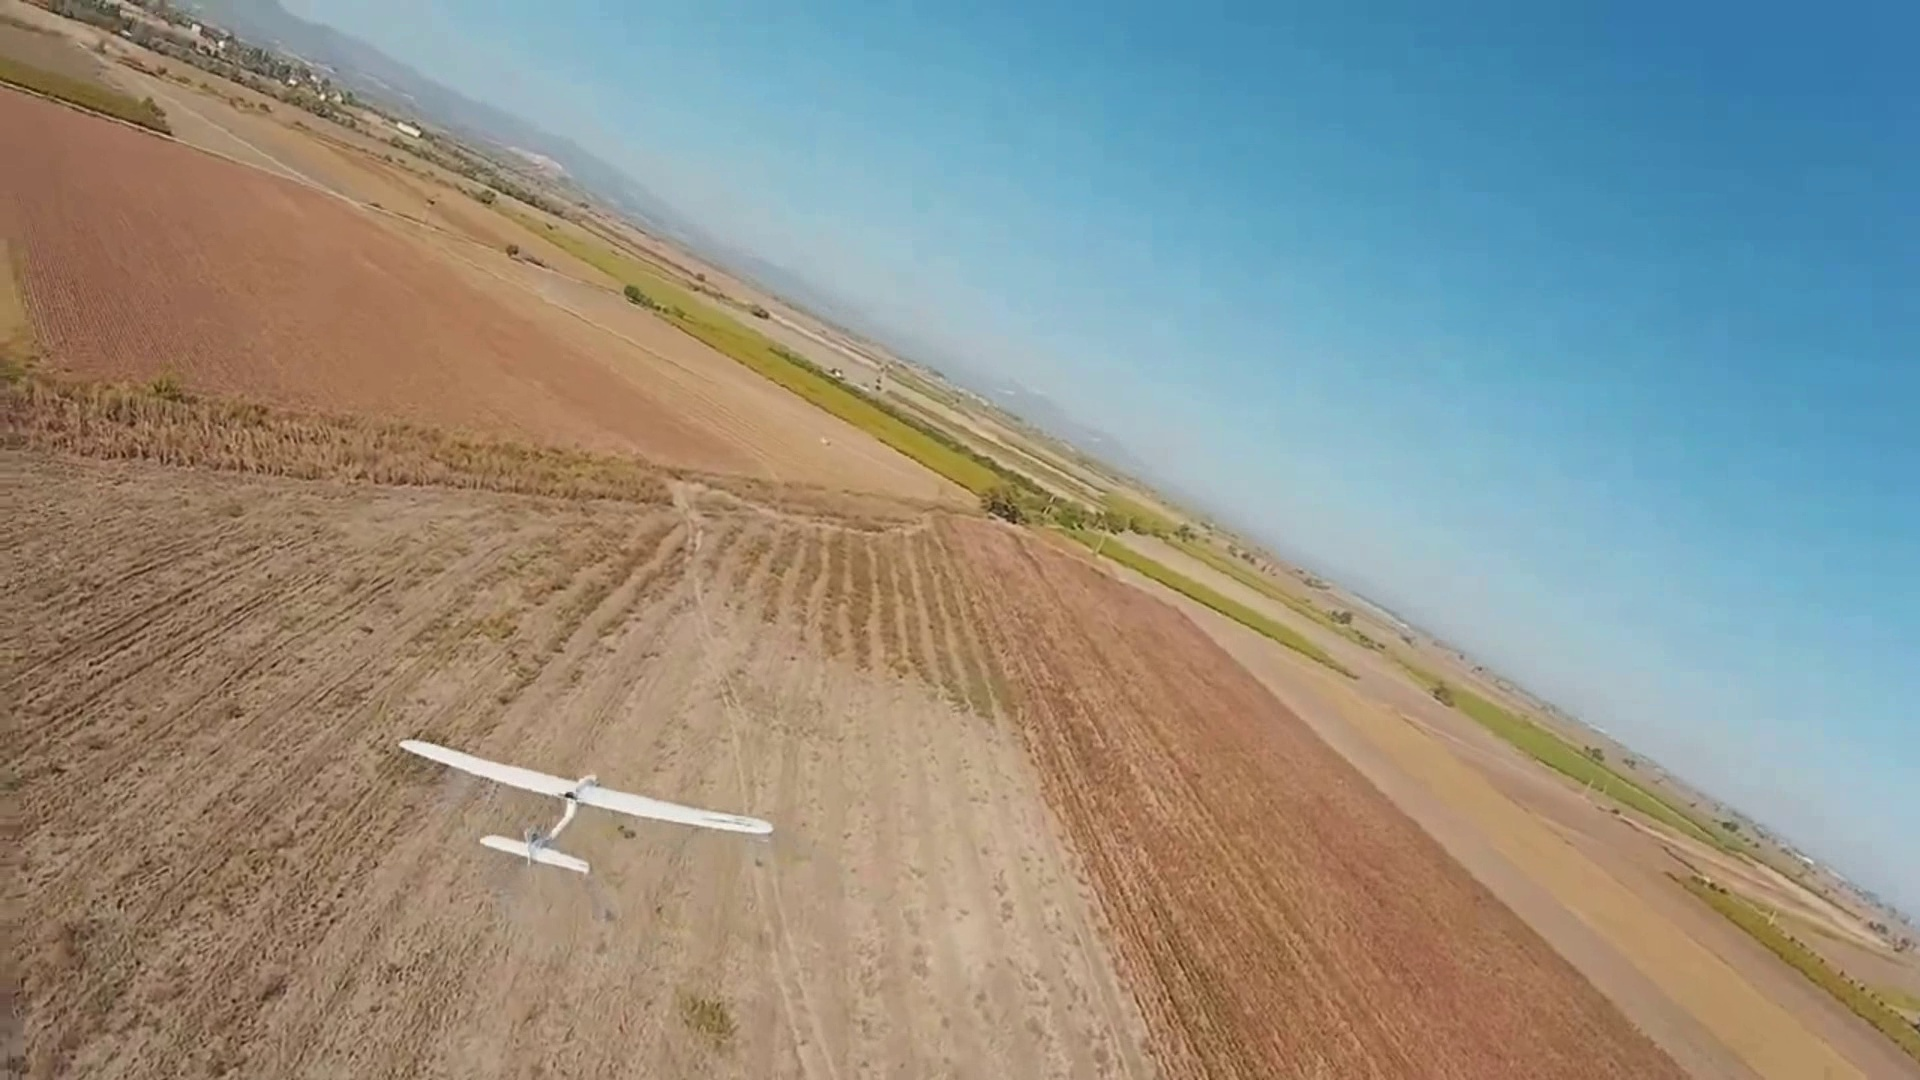airplane: (396, 735, 775, 891)
